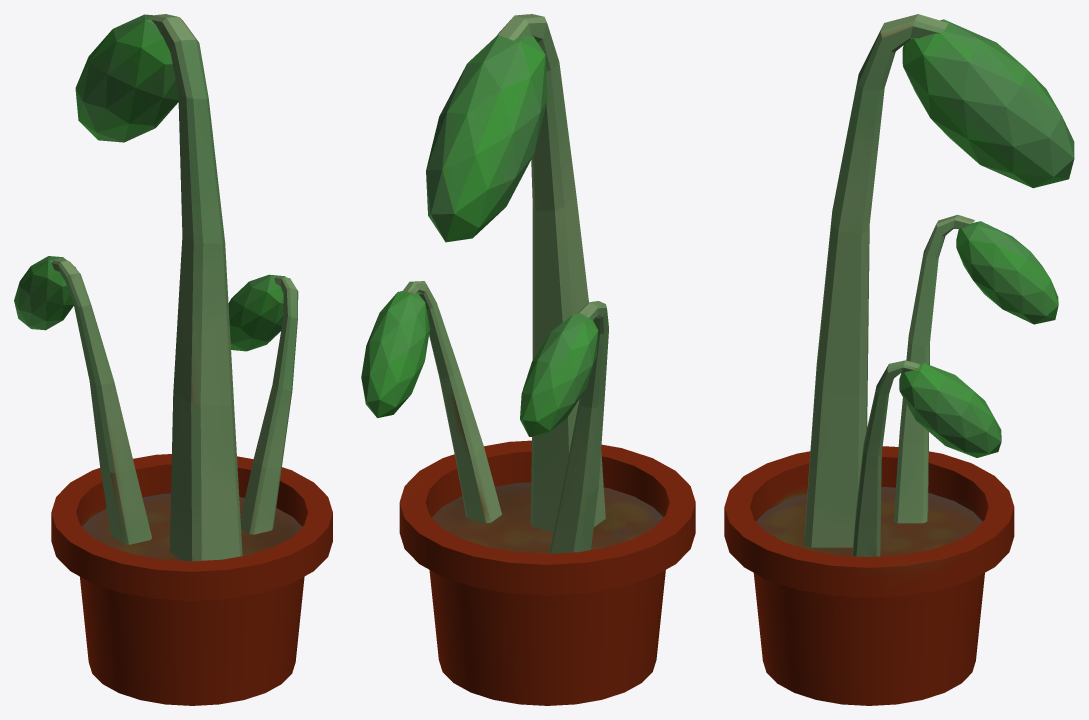
The model's file is Cucumber_lvl_3_textured.glb.
The picture shows the model from 3 angles, left to right: view 1: azimuth 30°, elevation 25°; view 2: azimuth 150°, elevation 25°; view 3: azimuth 270°, elevation 25°; orthographic projection. The views are drawn at different scales.
Visible parts, largest first — view 1: Cucumber_lvl_3; view 2: Cucumber_lvl_3; view 3: Cucumber_lvl_3.
Part boxes in pixels (x1,y1,x2,y2): Cucumber_lvl_3: [14, 14, 332, 705]; Cucumber_lvl_3: [361, 14, 695, 705]; Cucumber_lvl_3: [724, 14, 1074, 705].
Bounding box in the file's own units: 1.1 × 2.62 × 1.29.
1 material, 1 textured.
